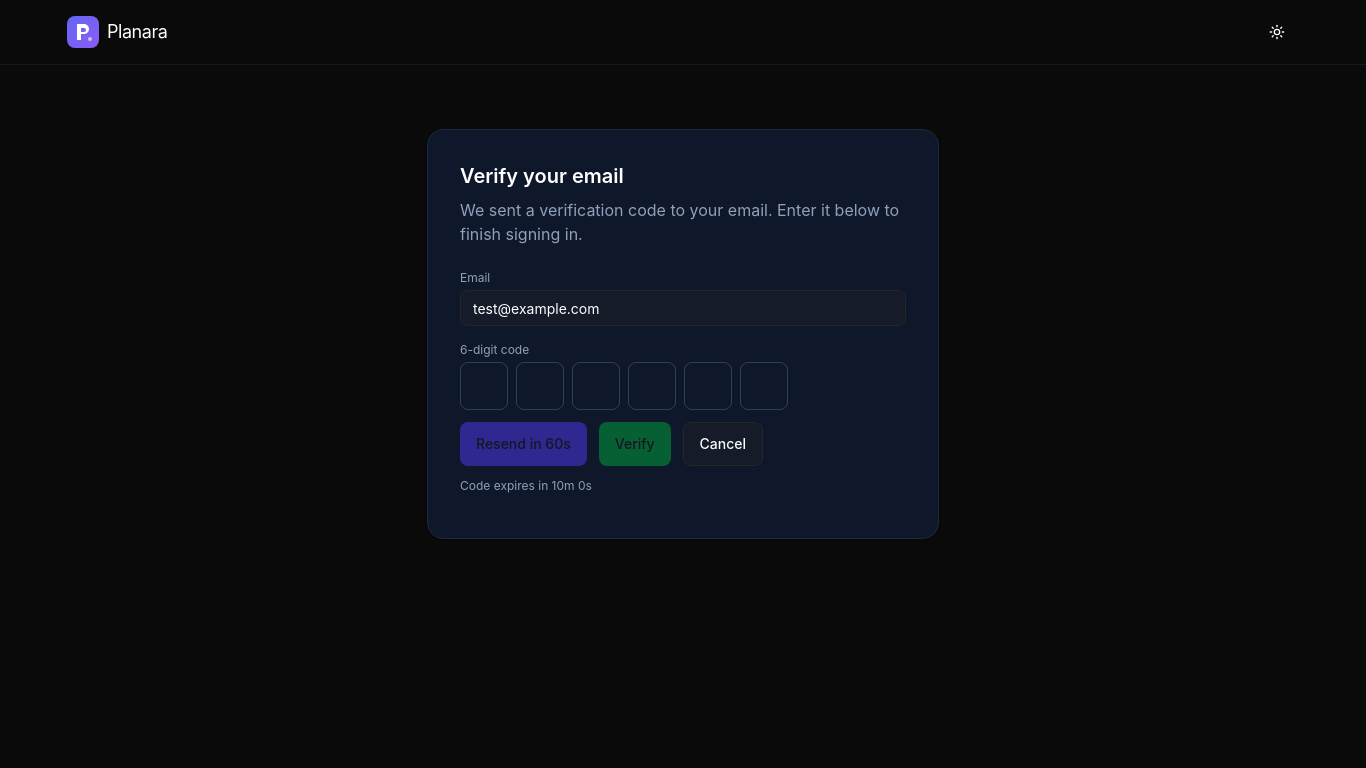
Scenario: EmailVerificationScreen › shows error when verification fails
Click the field named "Digit 1 of 6".
click(484, 386)  # box x1=460 y1=362 x2=508 y2=410
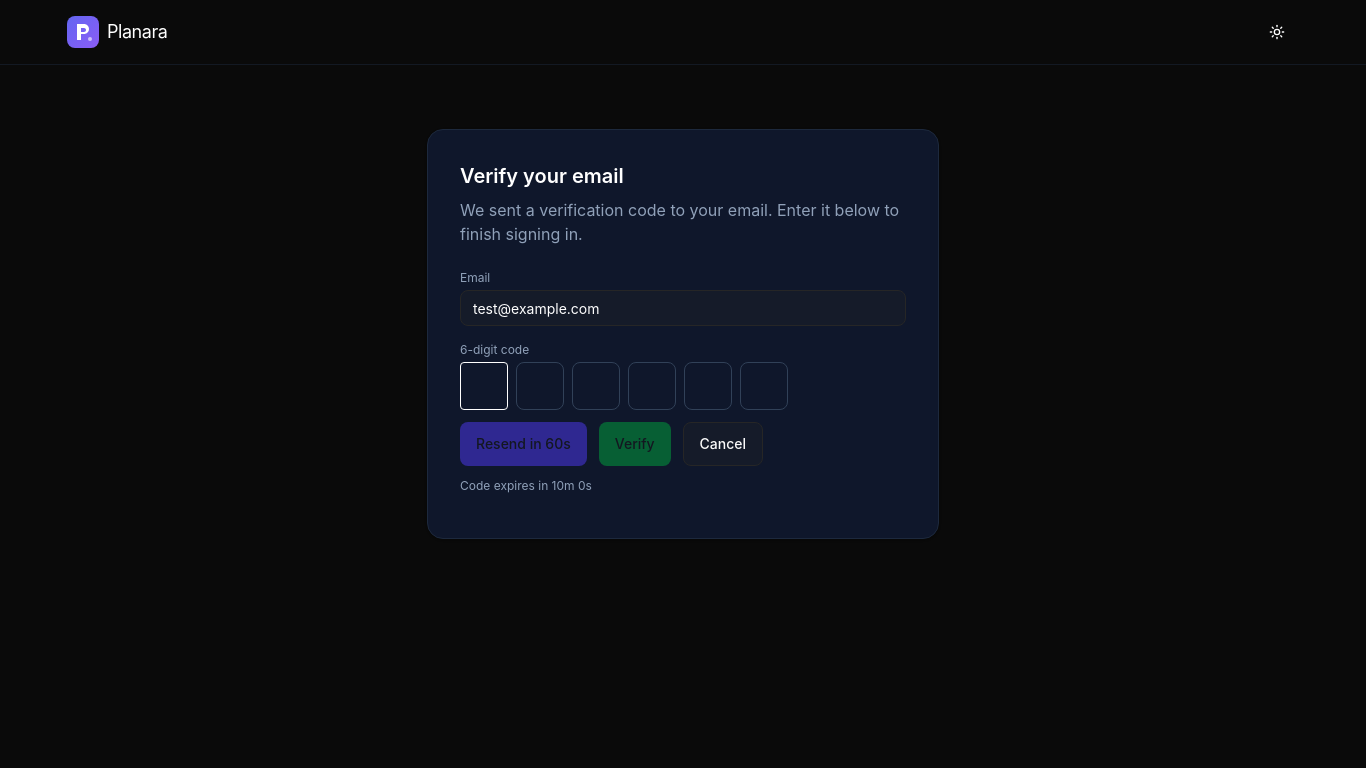
Type keys "000000"
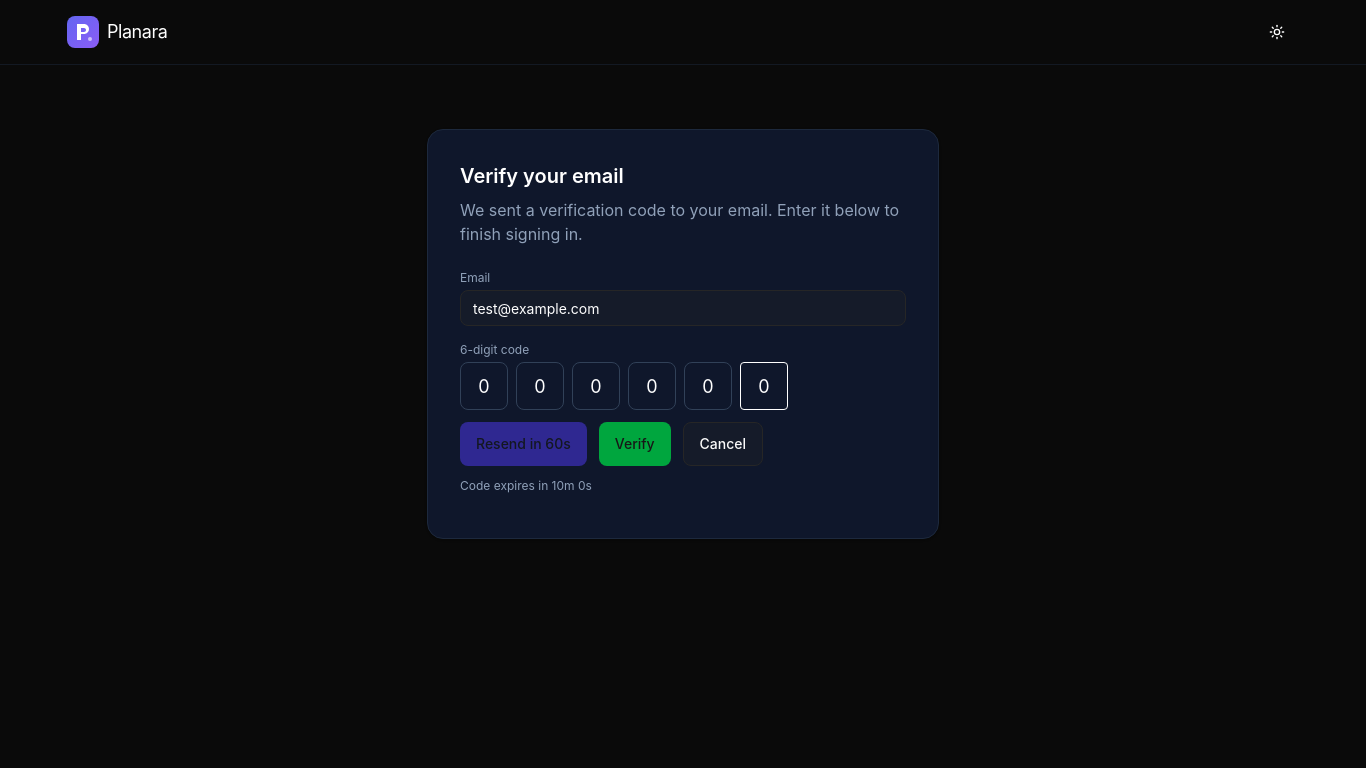
Click the button "Verify".
click(635, 444)  # box x1=599 y1=422 x2=671 y2=466
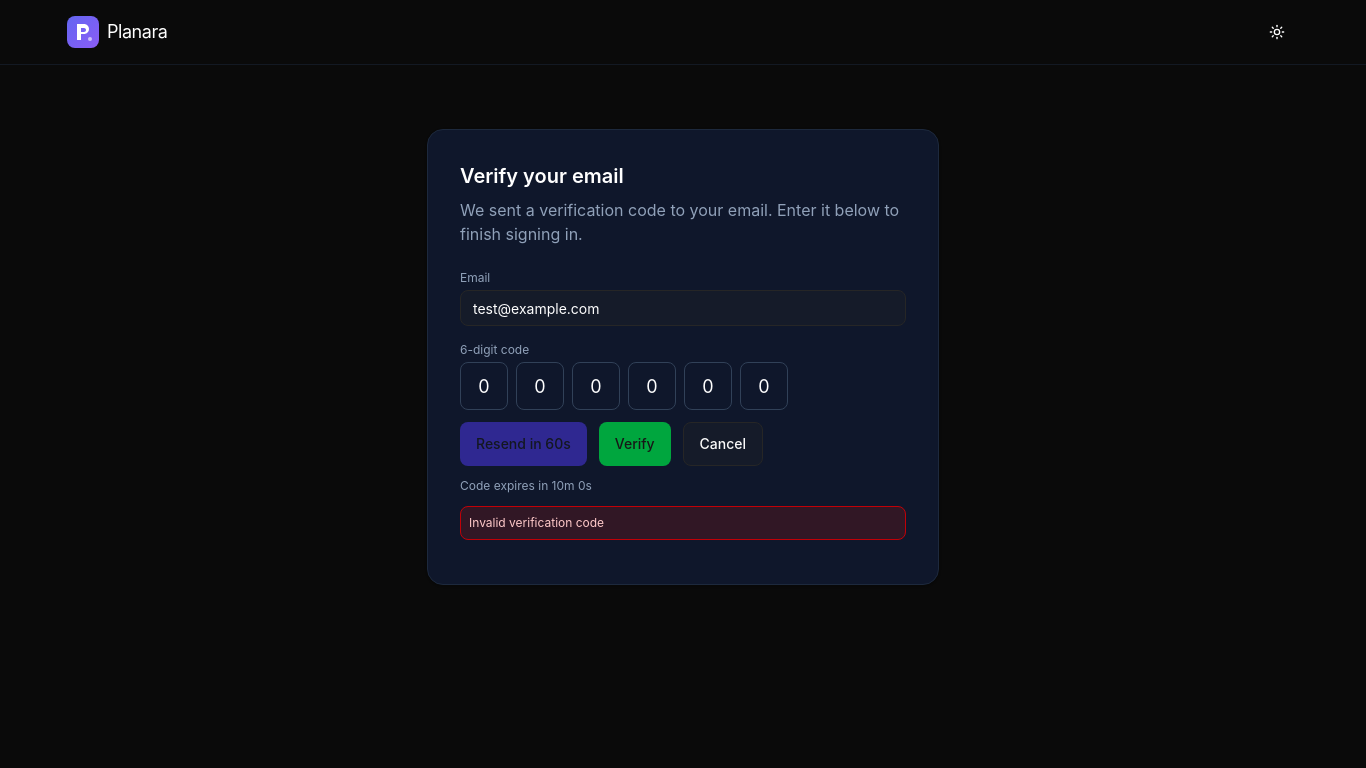
Check: the message reads "Invalid verification code", box x1=469 y1=515 x2=604 y2=530
